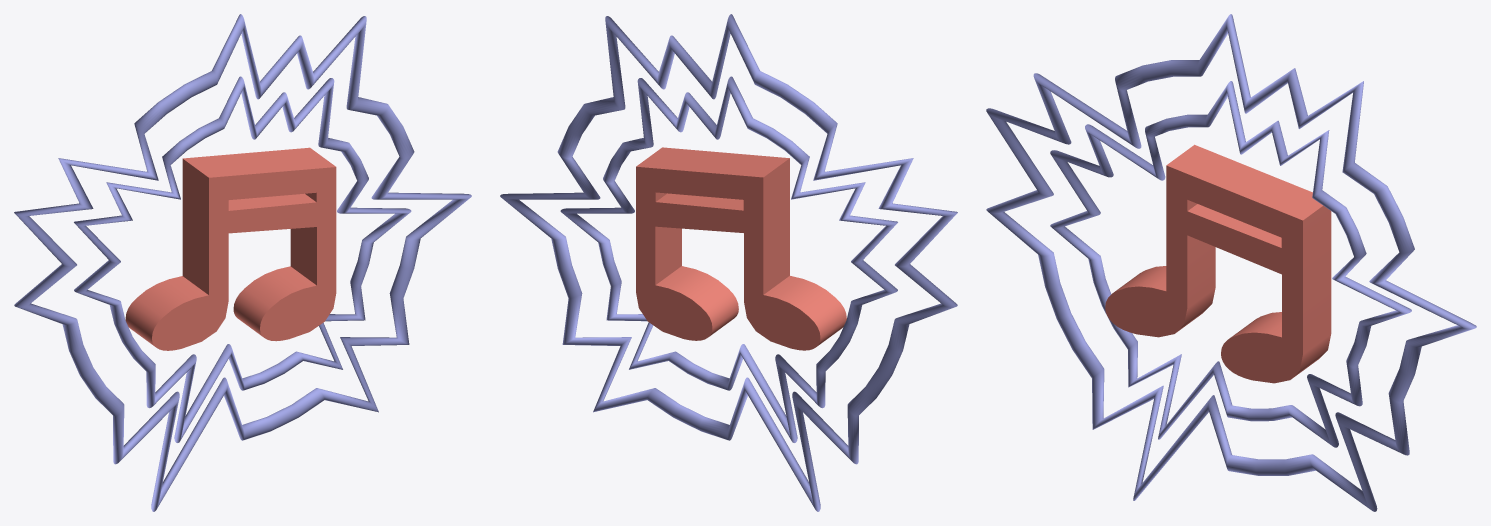
File: onnpu1.fbx
3 views of the same model, side by side, from view 1: azimuth 30°, elevation 25°; view 2: azimuth 150°, elevation 25°; view 3: azimuth 330°, elevation 25° (orthographic). The views are drawn at different scales.
Visible parts, largest first — view 1: typeMesh1, pTorus1, pTorus2; view 2: typeMesh1, pTorus1, pTorus2; view 3: typeMesh1, pTorus1, pTorus2.
Boxes of the visible parts, x1,y1,x2,y2 form: typeMesh1: (125,147,336,350); pTorus1: (14,14,471,511); pTorus2: (74,76,411,442); typeMesh1: (636,147,846,350); pTorus1: (500,14,957,511); pTorus2: (560,76,897,442); typeMesh1: (1105,144,1331,383); pTorus1: (986,14,1476,511); pTorus2: (1050,81,1411,447).
Size of the model in its own units: 24.97 by 24.85 by 2.5.
